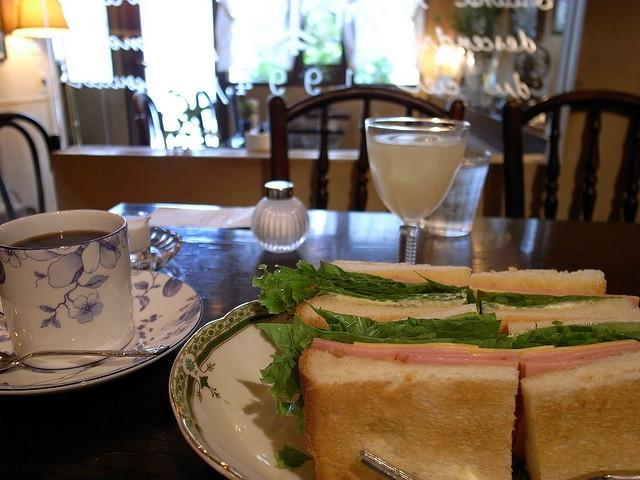lettuce: (256, 299, 513, 434), (252, 259, 479, 315), (476, 289, 623, 314), (522, 333, 568, 348), (568, 331, 602, 341), (562, 336, 592, 346), (534, 333, 552, 340)
